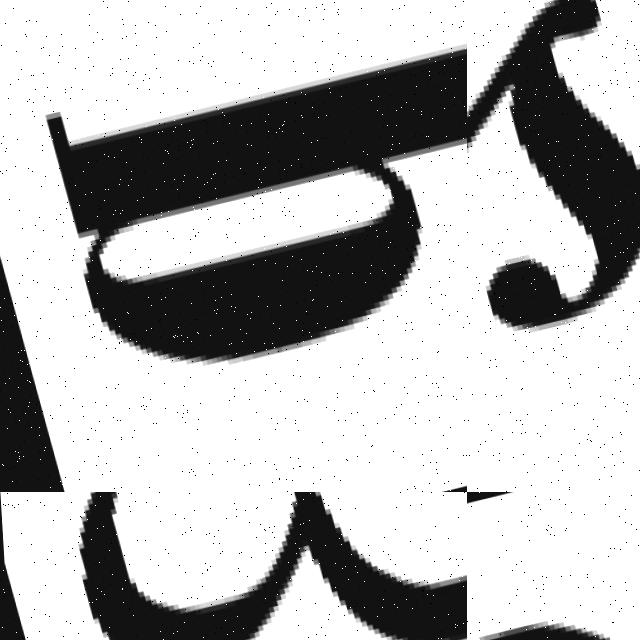3: (25, 492, 467, 640)
P: (41, 50, 467, 364)
S: (467, 531, 640, 640)
Z: (467, 0, 640, 491)
